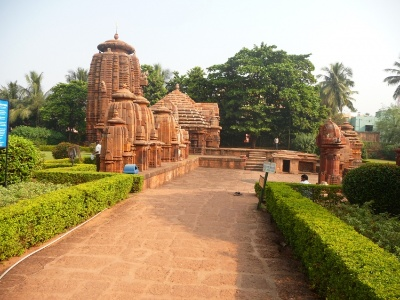amalaka: (93, 36, 141, 58), (111, 87, 139, 106), (102, 114, 131, 128)
gopuram: (82, 51, 148, 138)
